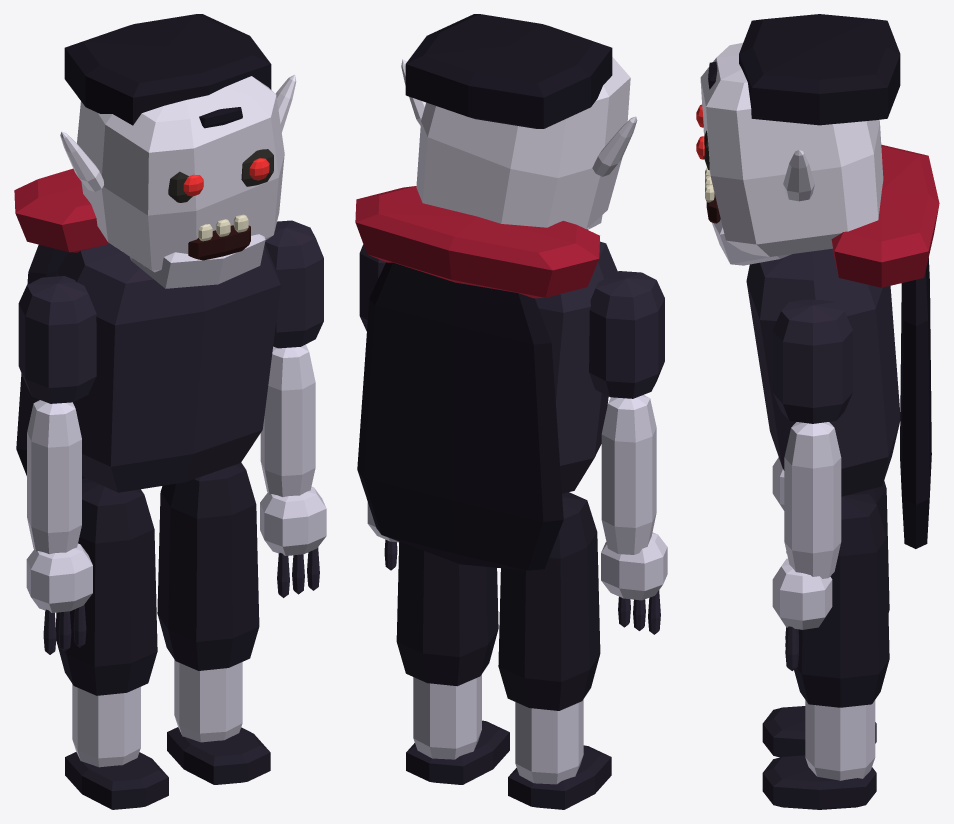
File: mon-vampire-1.glb
3 renders of one model, left to right at view 1: azimuth 30°, elevation 25°; view 2: azimuth 150°, elevation 25°; view 3: azimuth 270°, elevation 25°, orthographic.
Parts seen in each view (by area): view 1: head, torso, leg-left, leg-right, arm-right, arm-left; view 2: torso, head, leg-right, arm-right, leg-left, arm-left; view 3: head, torso, leg-left, arm-left, leg-right, arm-right.
Boxes of the visible parts, <box> form: head: <box>60,14,296,288</box>; torso: <box>14,168,280,492</box>; leg-left: <box>157,462,270,784</box>; leg-right: <box>56,477,168,809</box>; arm-right: <box>18,276,96,654</box>; arm-left: <box>260,220,326,597</box>; torso: <box>355,186,617,570</box>; head: <box>401,14,637,229</box>; leg-right: <box>498,492,611,809</box>; arm-right: <box>589,271,667,634</box>; leg-left: <box>396,541,509,784</box>; arm-left: <box>359,244,398,570</box>; head: <box>696,14,900,265</box>; torso: <box>746,144,939,548</box>; leg-left: <box>762,492,889,809</box>; arm-left: <box>772,299,852,670</box>; leg-right: <box>762,481,889,757</box>; arm-right: <box>772,457,786,553</box>.
Size of the model in its own units: 0.9745 by 2.34 by 0.7081.
